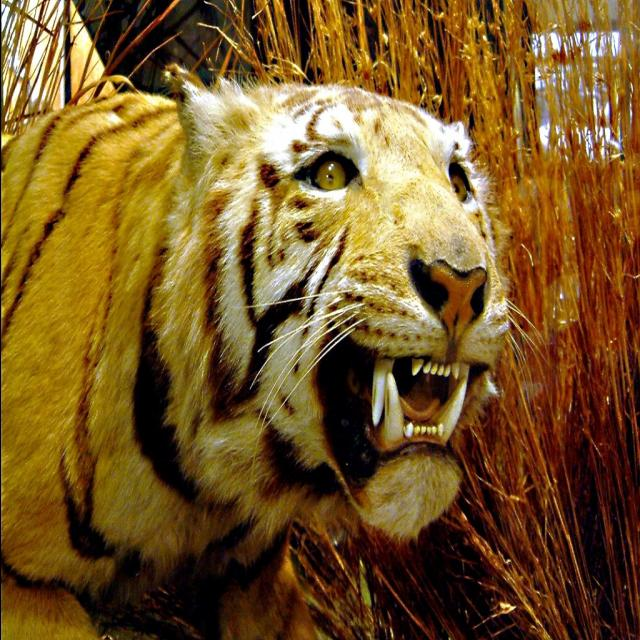Tiger: (0, 58, 506, 622)
